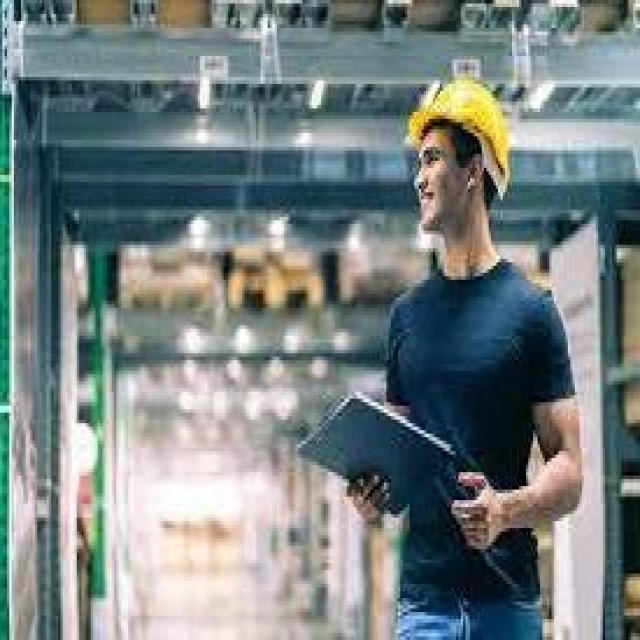Safety-Helmet: (401, 63, 522, 196)
